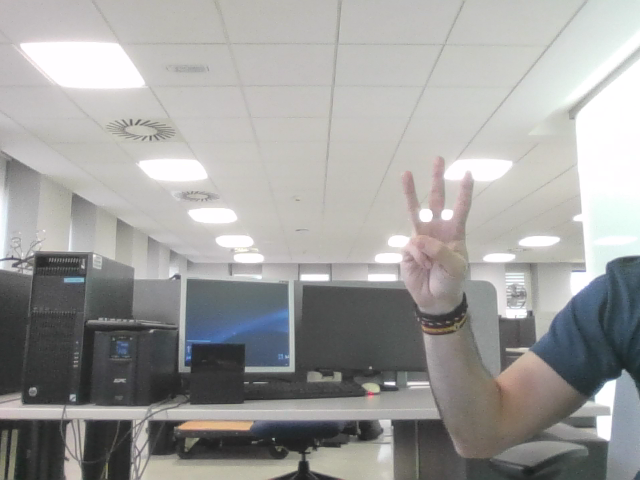3Dedos: (408, 168, 463, 284)
